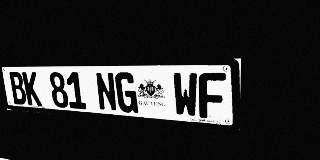1: (65, 72, 87, 109)
8: (48, 72, 69, 108)
B: (8, 72, 28, 105)
F: (198, 73, 226, 120)
G: (114, 72, 138, 113)
K: (22, 72, 42, 106)
N: (95, 72, 118, 112)
W: (172, 73, 199, 118)
